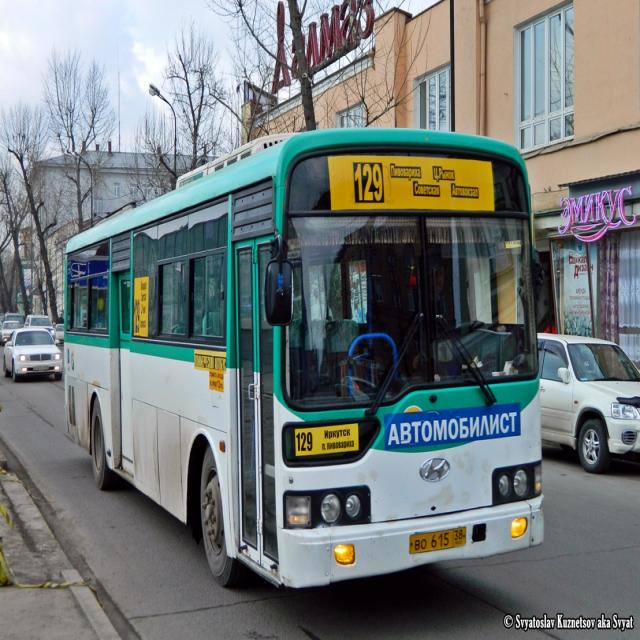number-of-bus: (355, 165, 386, 204), (296, 430, 317, 456)
